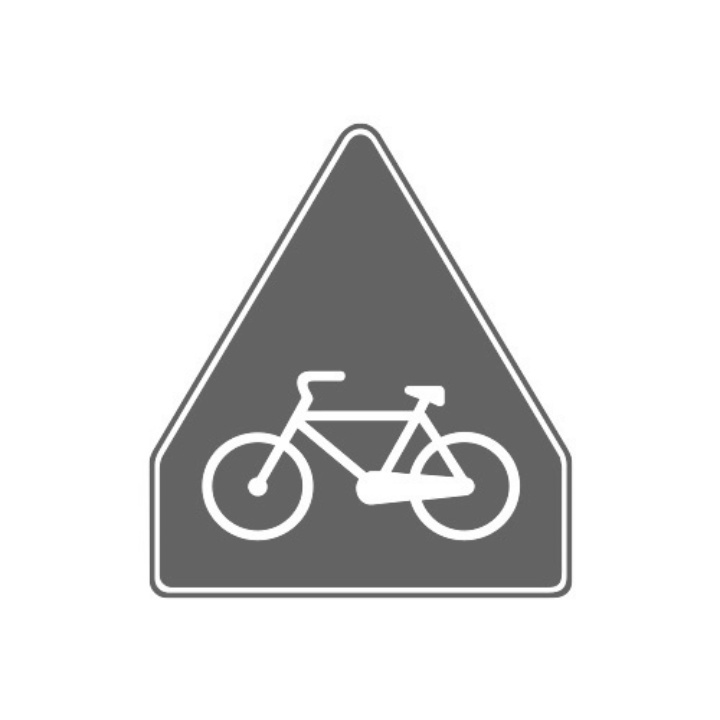bicycle: (191, 299, 521, 629)
